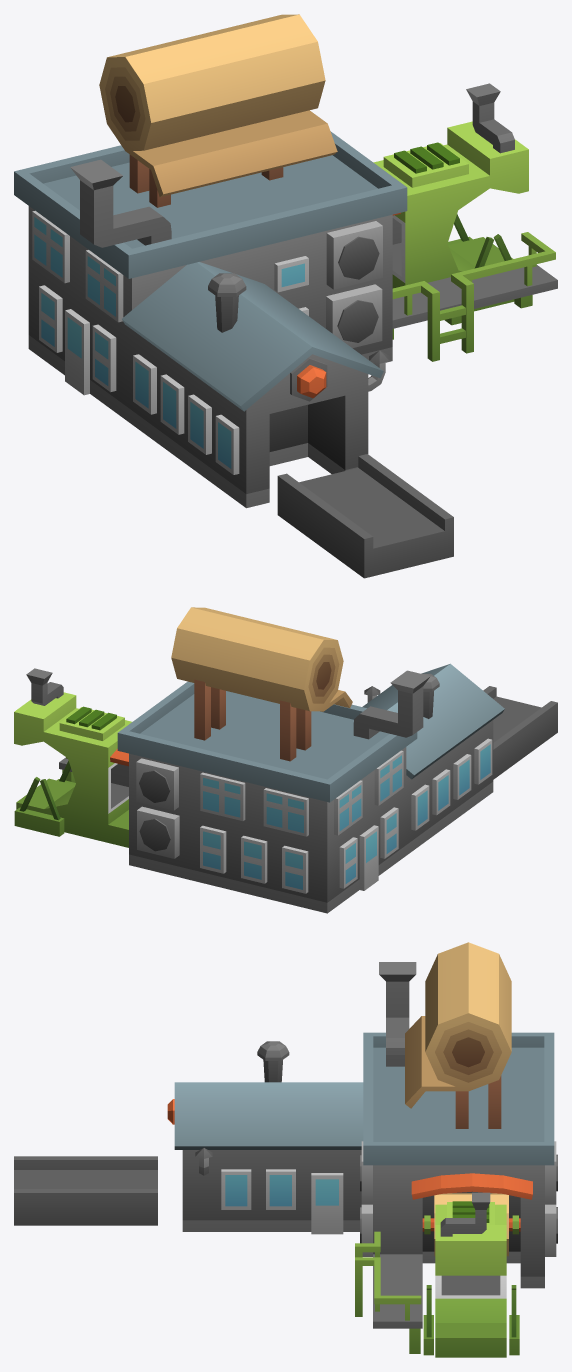
The model's file is paper mill house.fbx.
3 views of the same model, one above another, from view 1: azimuth 30°, elevation 25°; view 2: azimuth 150°, elevation 25°; view 3: azimuth 270°, elevation 25° (orthographic). The views are drawn at different scales.
Visible parts, largest first — view 1: paper_mill_house; view 2: paper_mill_house; view 3: paper_mill_house.
Part boxes in pixels (box(x1,y1,x2,y2)): paper_mill_house: box(14, 14, 557, 578); paper_mill_house: box(14, 607, 557, 913); paper_mill_house: box(14, 942, 557, 1357).
Size of the model in its own units: 1444 by 919 by 1738.
1 material, 1 textured.
